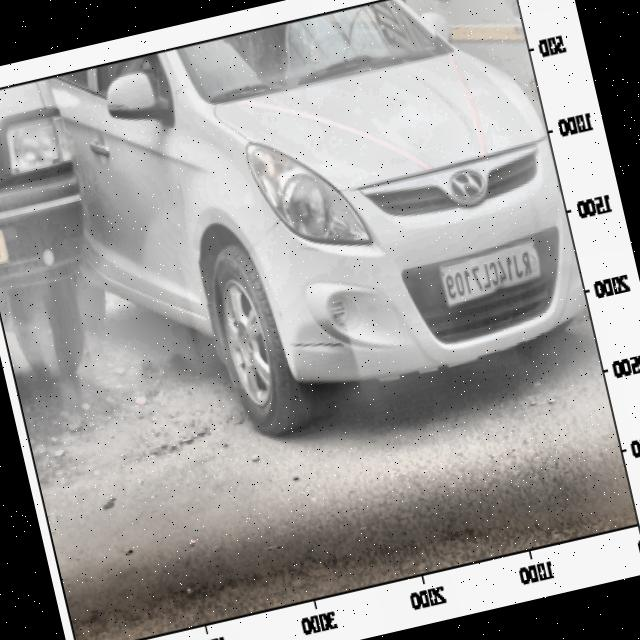license_plate: (438, 242, 545, 312)
